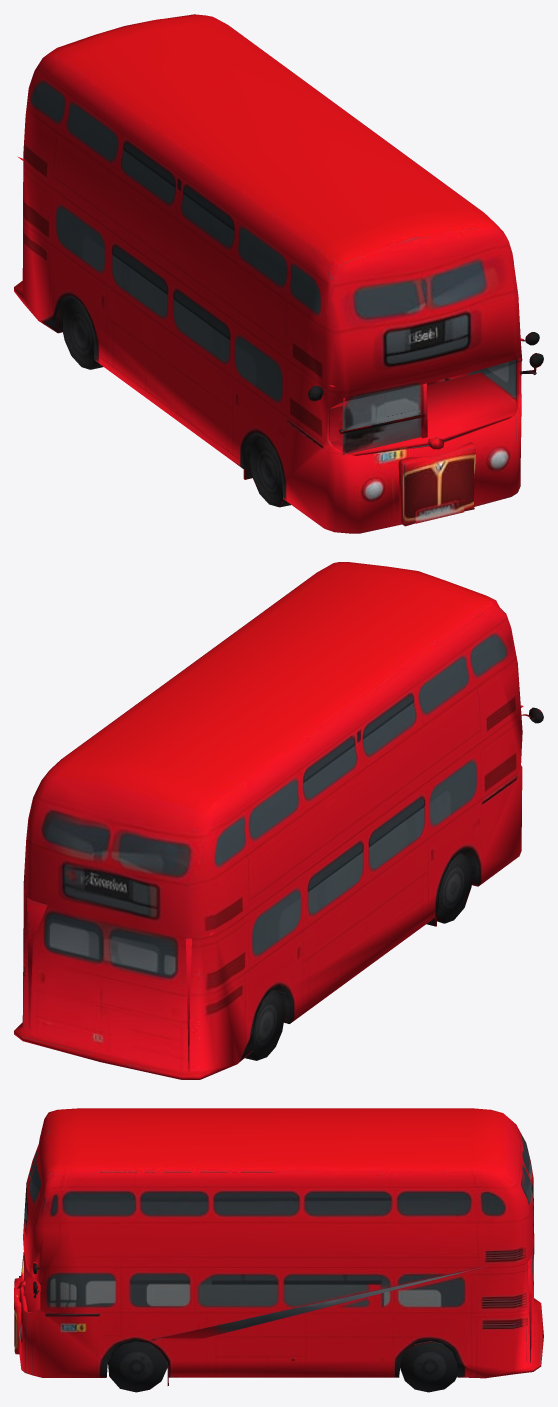
The model's file is bus.glb.
The picture shows the model from 3 angles, top to bottom: view 1: azimuth 30°, elevation 25°; view 2: azimuth 150°, elevation 25°; view 3: azimuth 270°, elevation 25°; orthographic projection. The views are drawn at different scales.
Bounding box in the file's own units: 4.17 × 4.99 × 10.5.
1 material, 1 textured.
